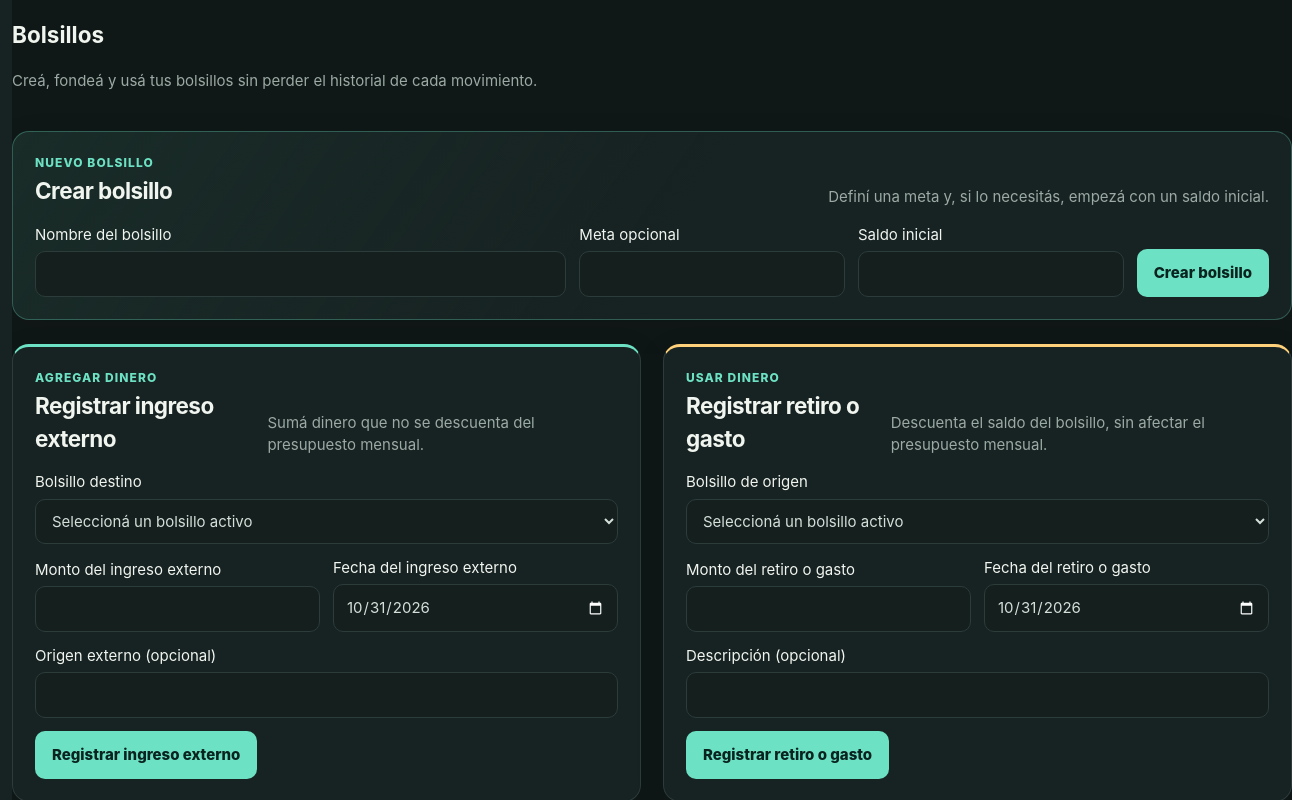
PocketsPage › normalizes leading zeros in pocket amount inputs
Type "0124" into the number field labelled "Meta opcional" at (712, 274), box [579, 251, 845, 297]
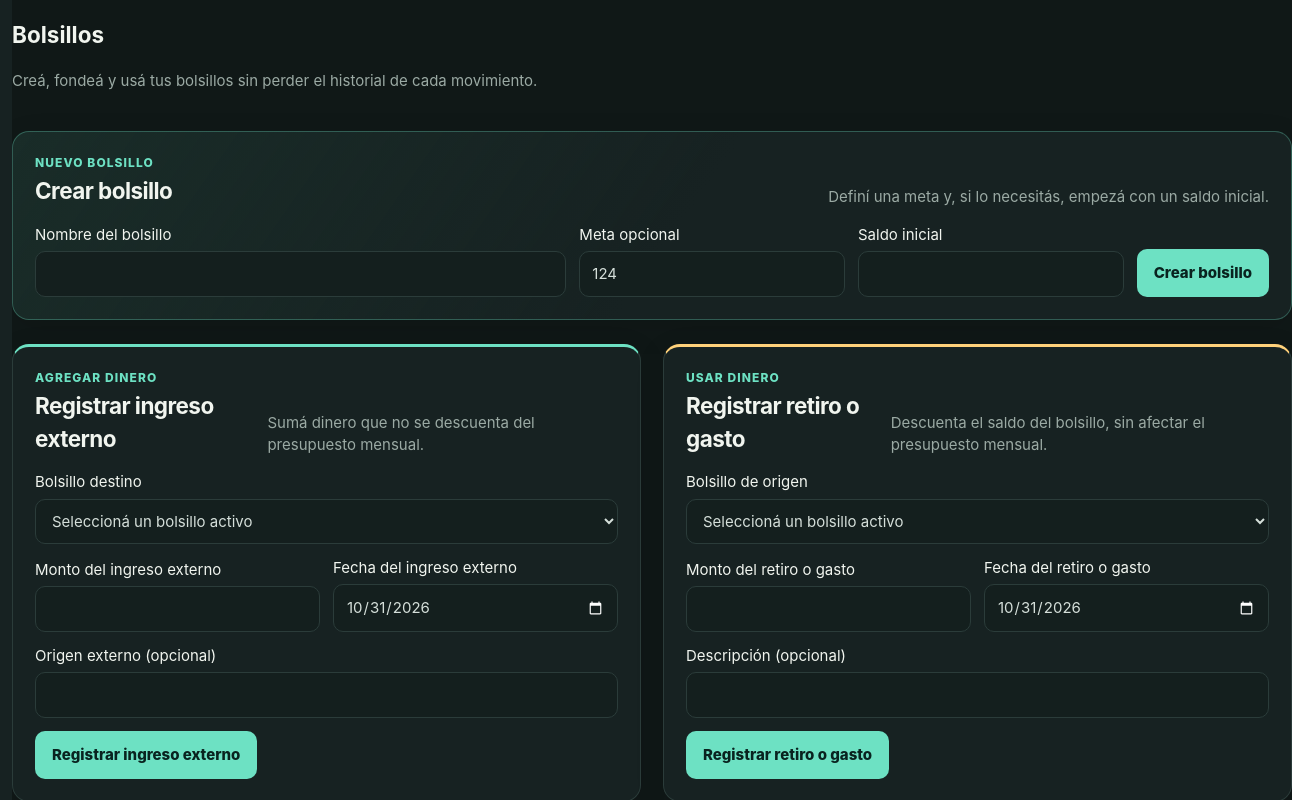
Check: the number field labelled "Meta opcional" holds "124", box [579, 251, 845, 297]
